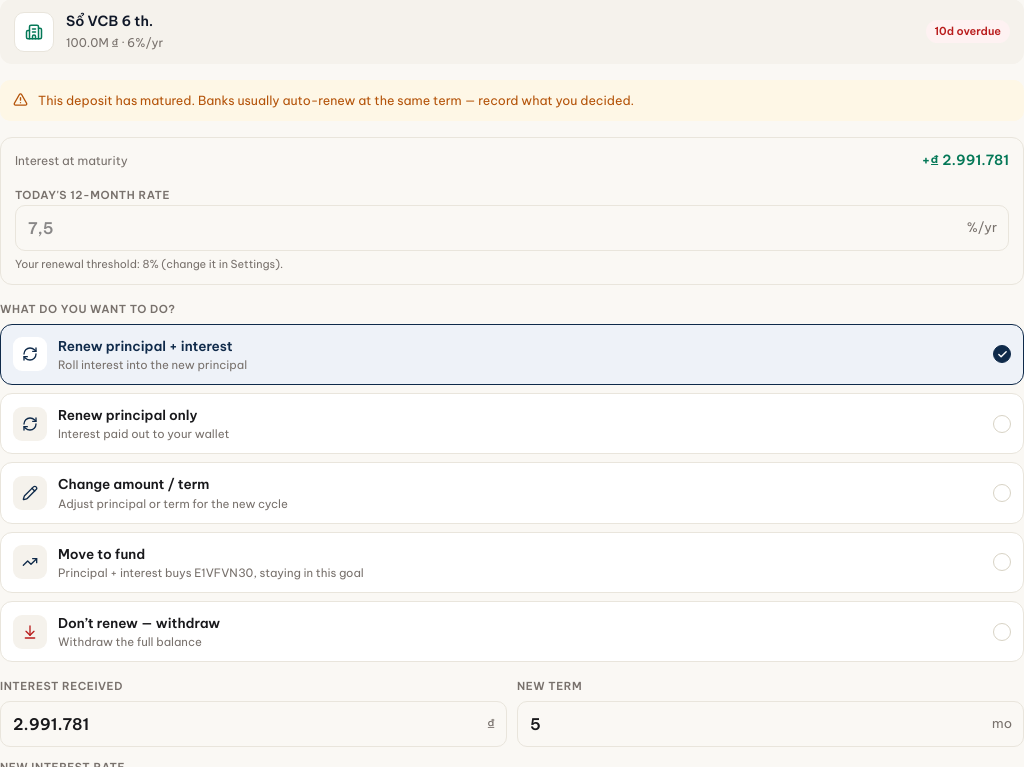
Test: MaturityResolveBody — renew or move to the target fund › reprices when the user corrects the payout or picks another fund
The image size is (1024, 767).
Click the button "Move to fund": (30, 562) [0,532,1023,593]
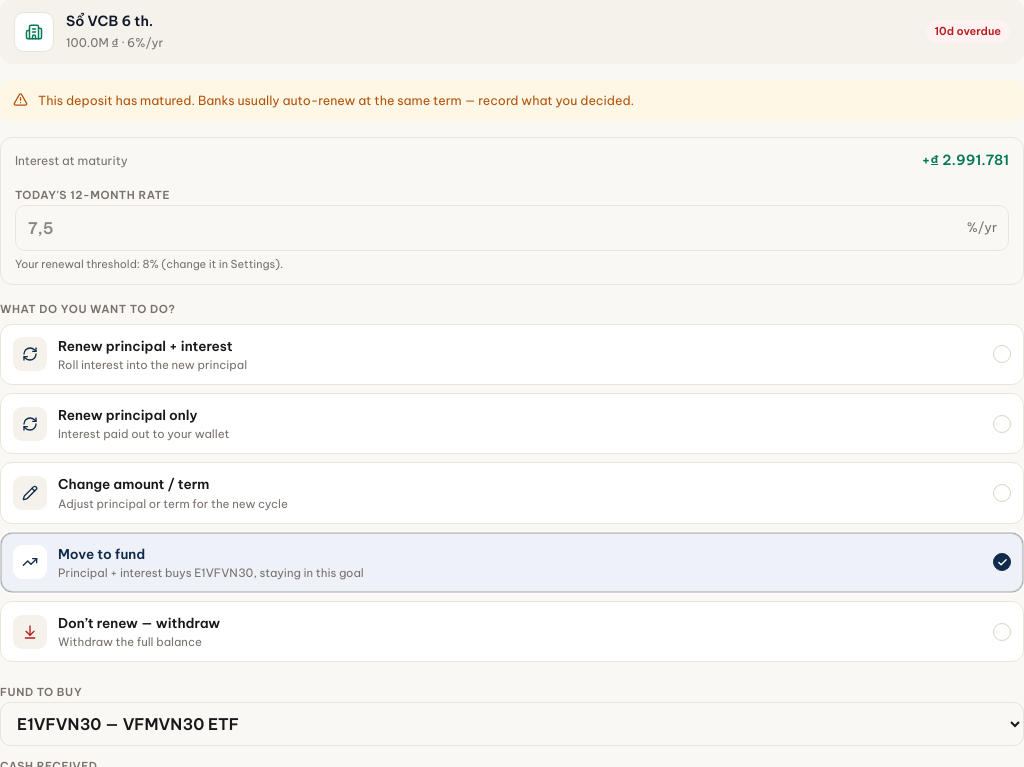
Select "DCDS — DCDS" in the dropdown with test id "move-fund-select": (512, 724) [0,702,1023,746]
(page scrolled)
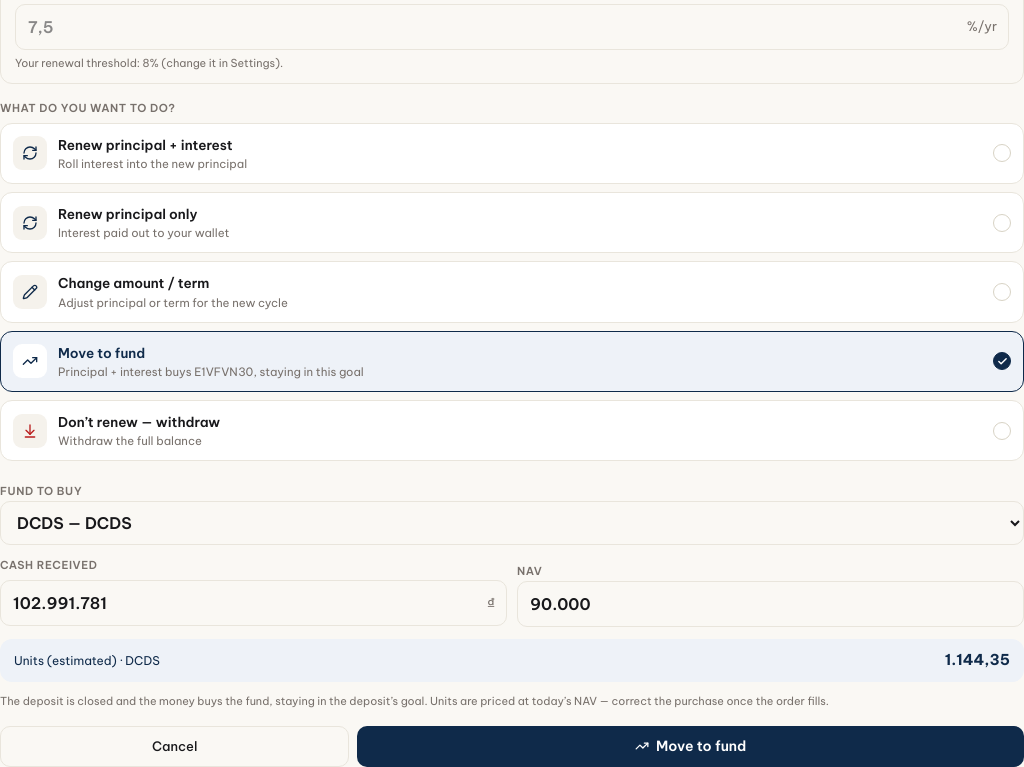
Replace the text in the field with test id "move-received" with "90000000": (254, 603) [0,580,507,626]
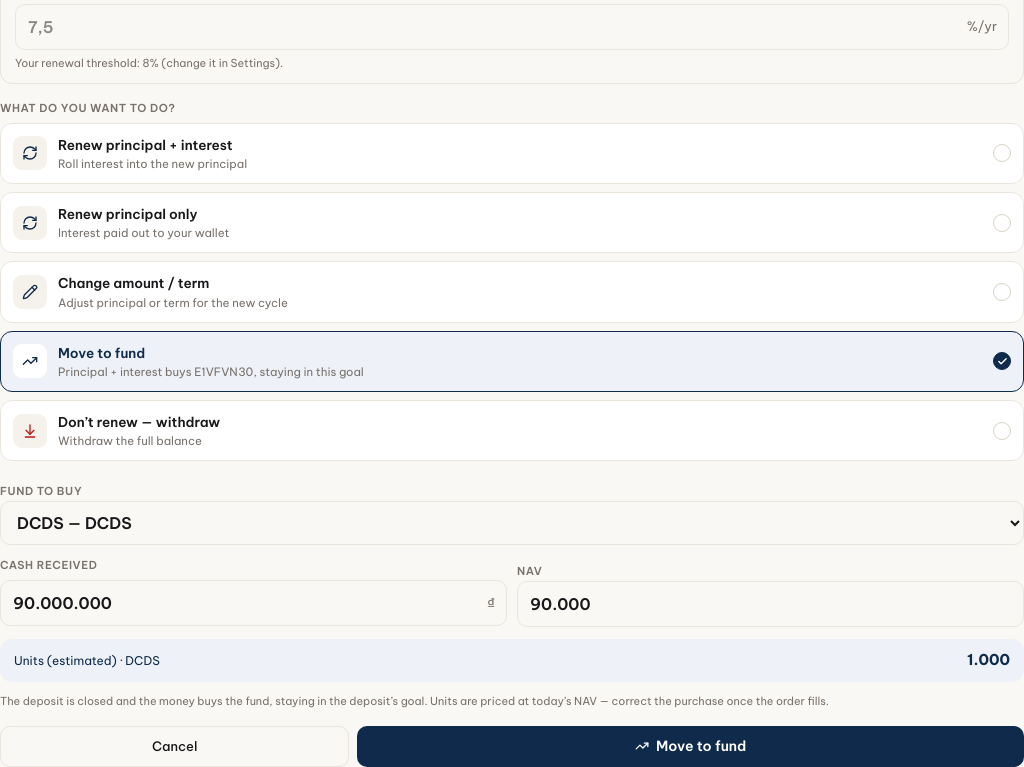
Result: the text with test id "move-units" reads "1.000" at [967,650,1010,669]
